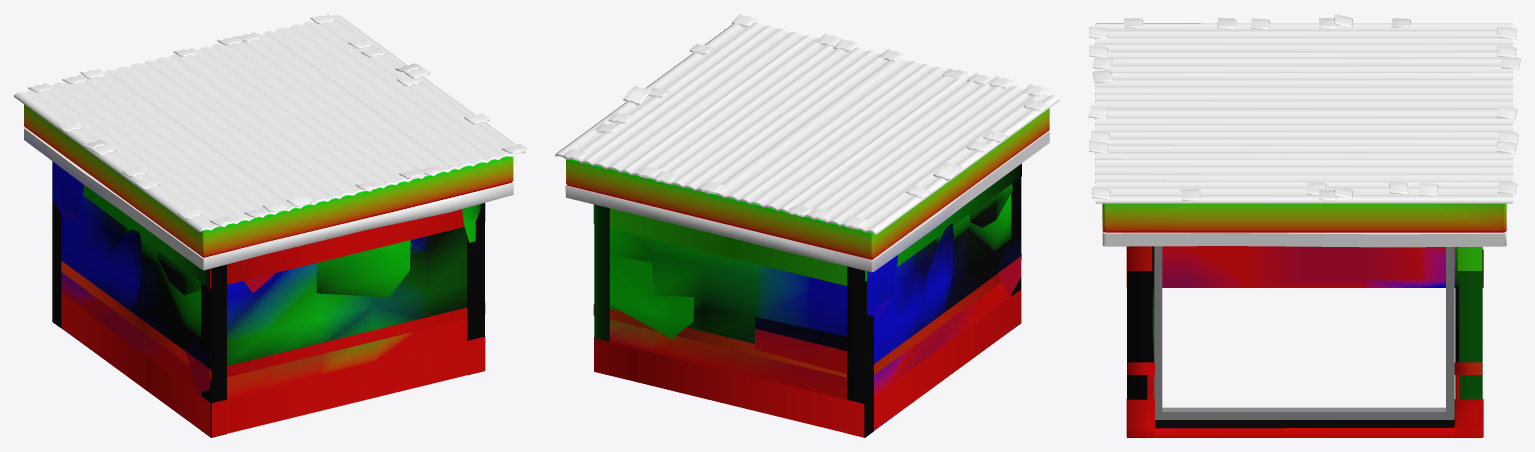
File: ExtraBuilding_A_Snaps004.FBX
3 views of the same model, side by side, from view 1: azimuth 30°, elevation 25°; view 2: azimuth 150°, elevation 25°; view 3: azimuth 270°, elevation 25° (orthographic). The views are drawn at different scales.
Visible parts, largest first — view 1: Geometry_ExtraBuilding_A_LOD00, Geometry_Decal_B_LOD00, Geometry_Decal_C_LOD00, Geometry_Decal_A_LOD00; view 2: Geometry_ExtraBuilding_A_LOD00, Geometry_Decal_B_LOD00, Geometry_Decal_C_LOD00, Geometry_Decal_A_LOD00; view 3: Geometry_ExtraBuilding_A_LOD00, Geometry_Decal_B_LOD00, Geometry_WindowsFrame_LOD00, Geometry_Decal_A_LOD00.
Part boxes in pixels (x1,y1,x2,y2): Geometry_ExtraBuilding_A_LOD00: (14,14,526,433); Geometry_Decal_B_LOD00: (52,161,485,437); Geometry_Decal_C_LOD00: (52,161,480,393); Geometry_Decal_A_LOD00: (52,163,484,437); Geometry_ExtraBuilding_A_LOD00: (555,14,1059,430); Geometry_Decal_B_LOD00: (593,163,1021,437); Geometry_Decal_C_LOD00: (609,184,1021,373); Geometry_Decal_A_LOD00: (594,177,1021,437); Geometry_ExtraBuilding_A_LOD00: (1088,14,1520,437); Geometry_Decal_B_LOD00: (1126,246,1483,437); Geometry_WindowsFrame_LOD00: (1154,246,1454,419); Geometry_Decal_A_LOD00: (1126,247,1482,437).
Size of what is drawn, in the model's own units: 366 by 242 by 366.
